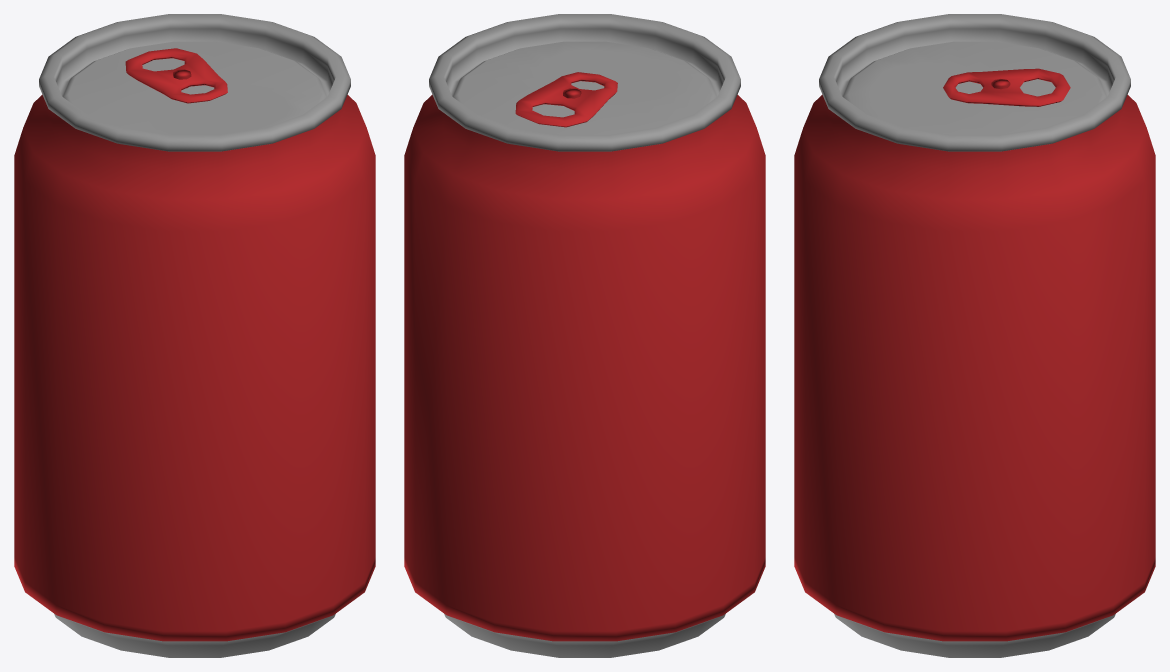
The model's file is coke.fbx.
3 renders of one model, left to right at view 1: azimuth 30°, elevation 25°; view 2: azimuth 150°, elevation 25°; view 3: azimuth 270°, elevation 25°, orthographic.
Visible parts, largest first — view 1: coke; view 2: coke; view 3: coke.
Part boxes in pixels (x1,y1,x2,y2): coke: (14, 14, 375, 657); coke: (404, 14, 765, 657); coke: (794, 14, 1155, 657).
Size of the model in its own units: 2.58 by 4.16 by 2.62.
